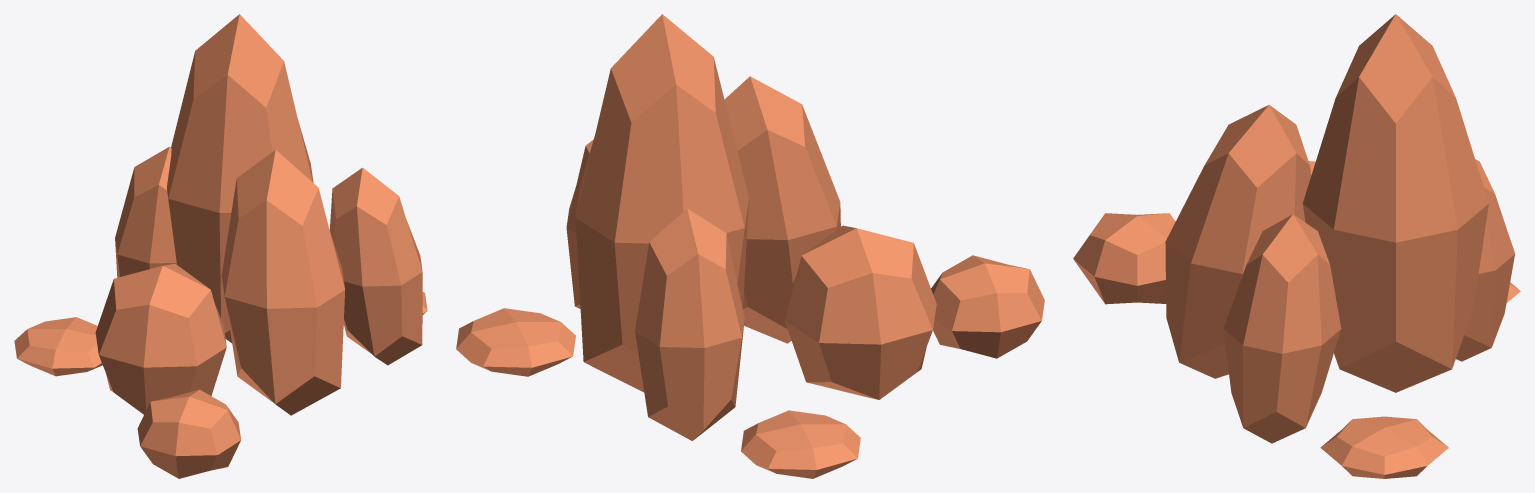
Rendered from rock4.glb.
3 views of the same model, side by side, from view 1: azimuth 30°, elevation 25°; view 2: azimuth 150°, elevation 25°; view 3: azimuth 270°, elevation 25° (orthographic). The views are drawn at different scales.
Visible parts, largest first — view 1: rock_01; view 2: rock_01; view 3: rock_01.
Part boxes in pixels (box(x1,y1,x2,y2)): rock_01: box(14, 14, 427, 478); rock_01: box(456, 14, 1044, 478); rock_01: box(1073, 14, 1520, 478).
Size of the model in its own units: 52.67 by 43.03 by 45.81.
1 material, 1 textured.
